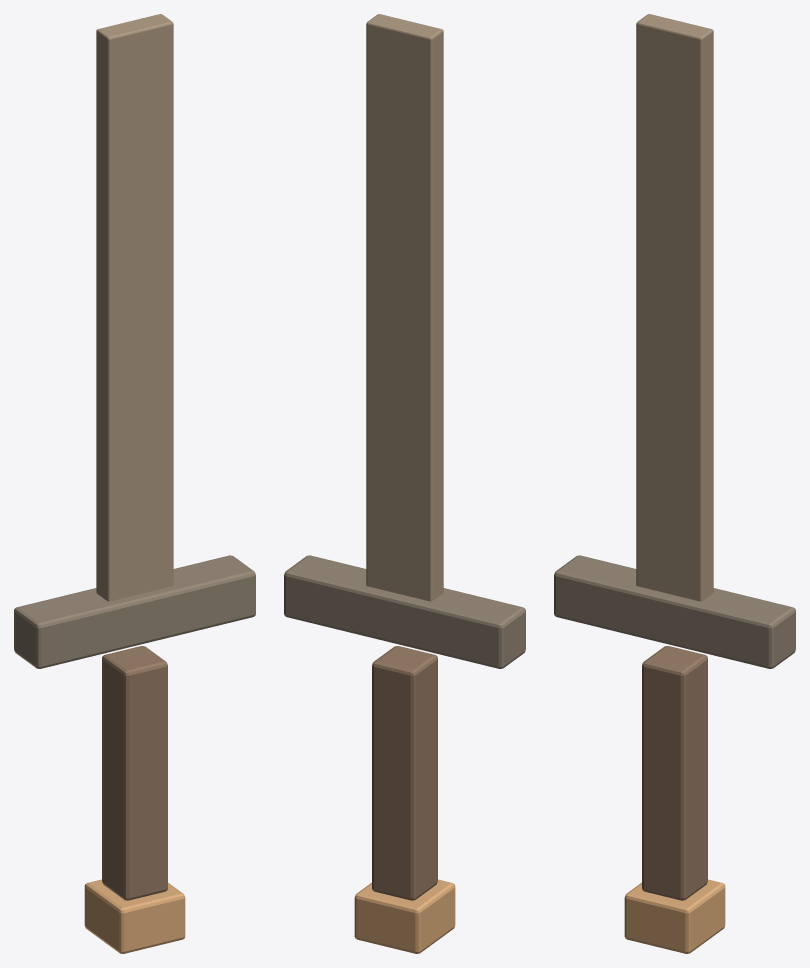
Rendered from weapon_bogiron_sword.glb.
3 renders of one model, left to right at view 1: azimuth 30°, elevation 25°; view 2: azimuth 150°, elevation 25°; view 3: azimuth 330°, elevation 25°, orthographic.
Visible parts, largest first — view 1: Blade, Grip, Crossguard, Pommel; view 2: Blade, Grip, Crossguard, Pommel; view 3: Blade, Grip, Crossguard, Pommel.
Part boxes in pixels (bbox=[...]): Blade: bbox=[96, 14, 173, 601]; Grip: bbox=[102, 646, 167, 900]; Crossguard: bbox=[14, 555, 255, 668]; Pommel: bbox=[84, 879, 185, 953]; Blade: bbox=[366, 14, 443, 601]; Grip: bbox=[372, 646, 437, 900]; Crossguard: bbox=[284, 555, 525, 668]; Pommel: bbox=[354, 879, 455, 953]; Blade: bbox=[636, 14, 713, 601]; Grip: bbox=[642, 646, 707, 900]; Crossguard: bbox=[554, 555, 795, 668]; Pommel: bbox=[624, 879, 725, 953].
Size of the model in its own units: 0.2 by 0.79 by 0.06.
